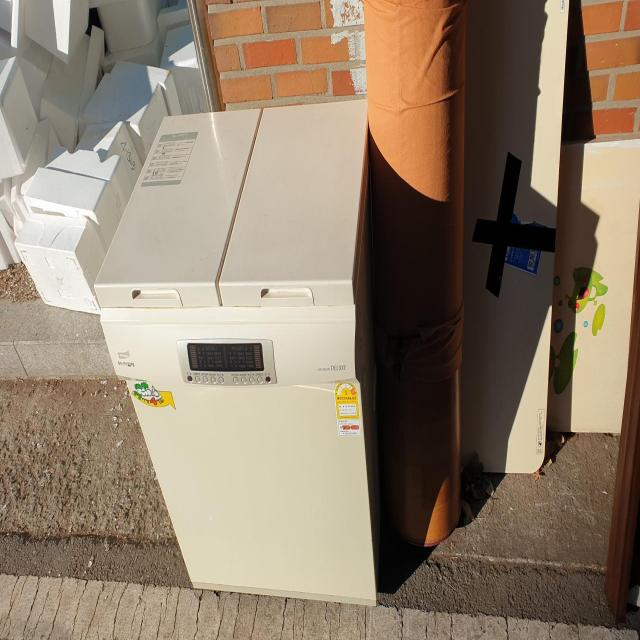refrigerator: (93, 99, 378, 606)
